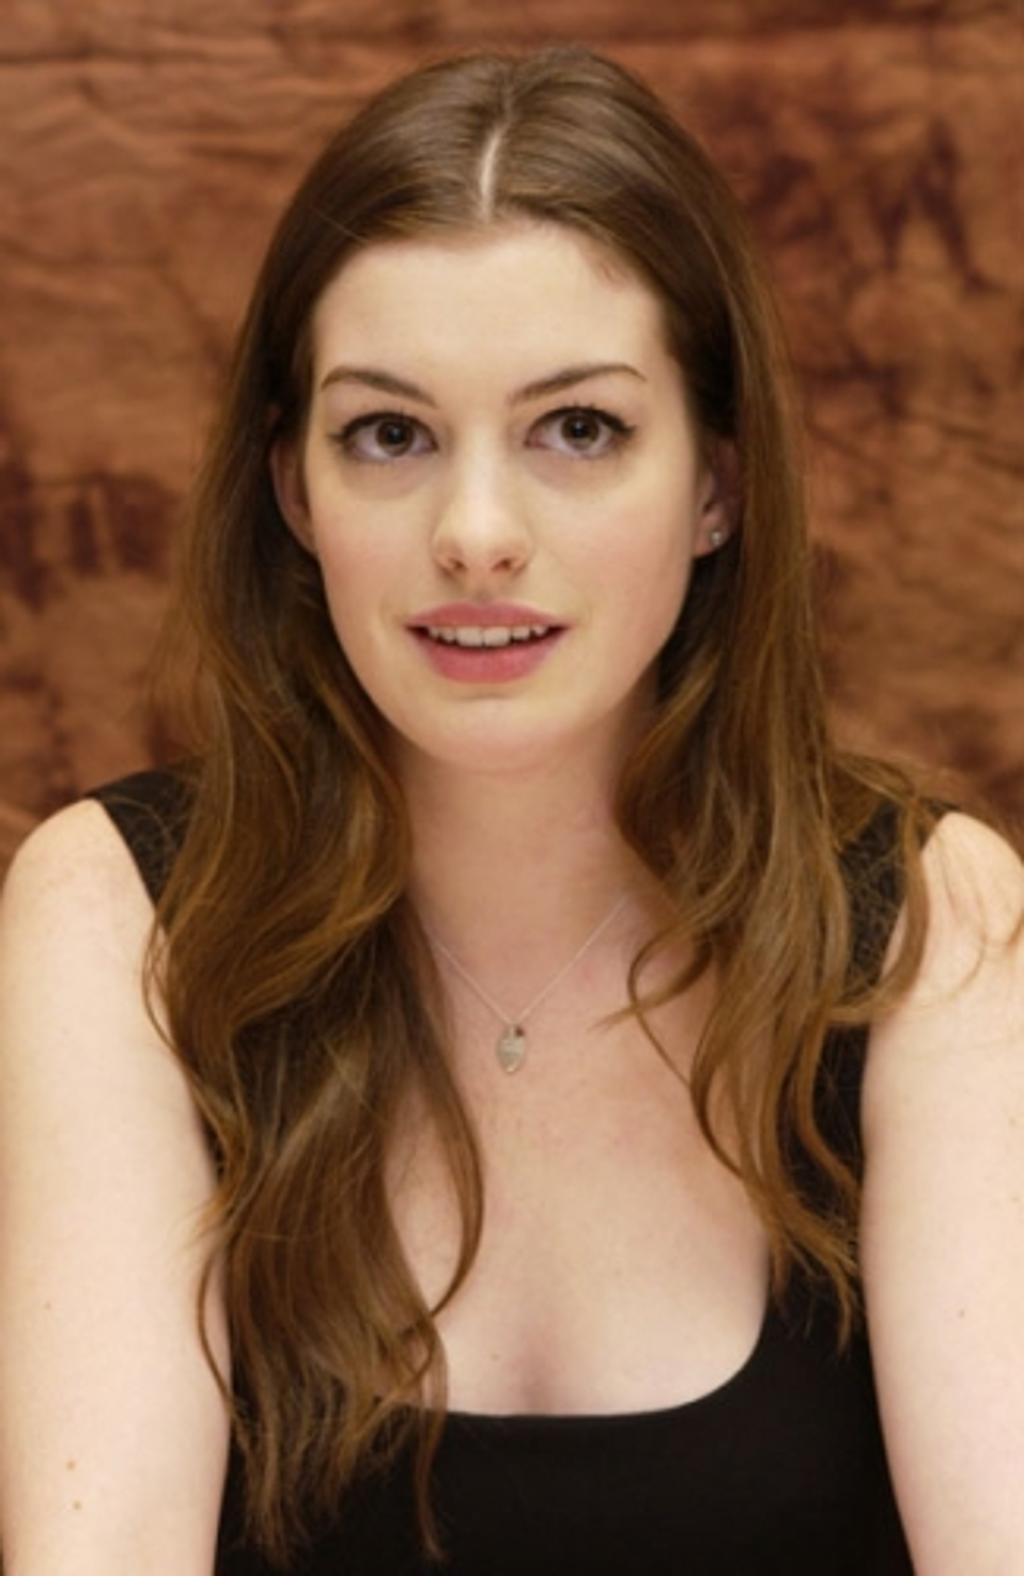face: (308, 215, 686, 762)
